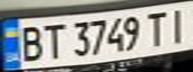3: (66, 18, 90, 57)
4: (106, 14, 127, 53)
7: (87, 16, 109, 55)
9: (121, 12, 145, 52)
B: (15, 21, 45, 62)
I: (163, 5, 193, 44)
T: (36, 20, 66, 61), (142, 9, 172, 47)
